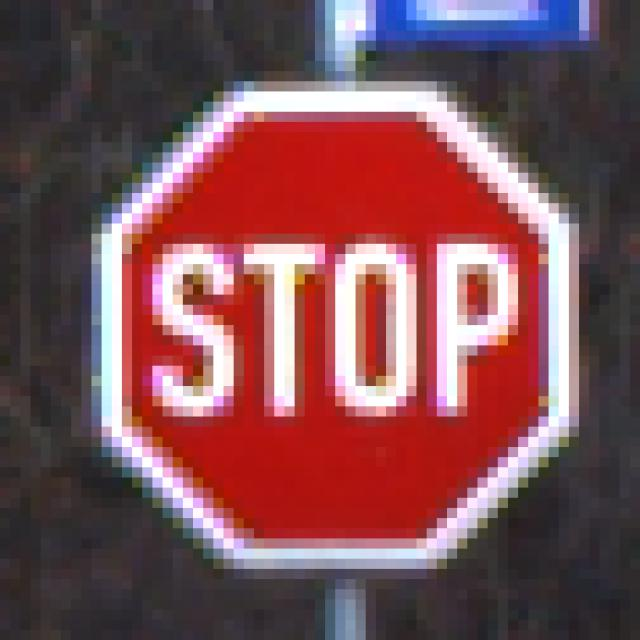STOP: (62, 52, 590, 590)
